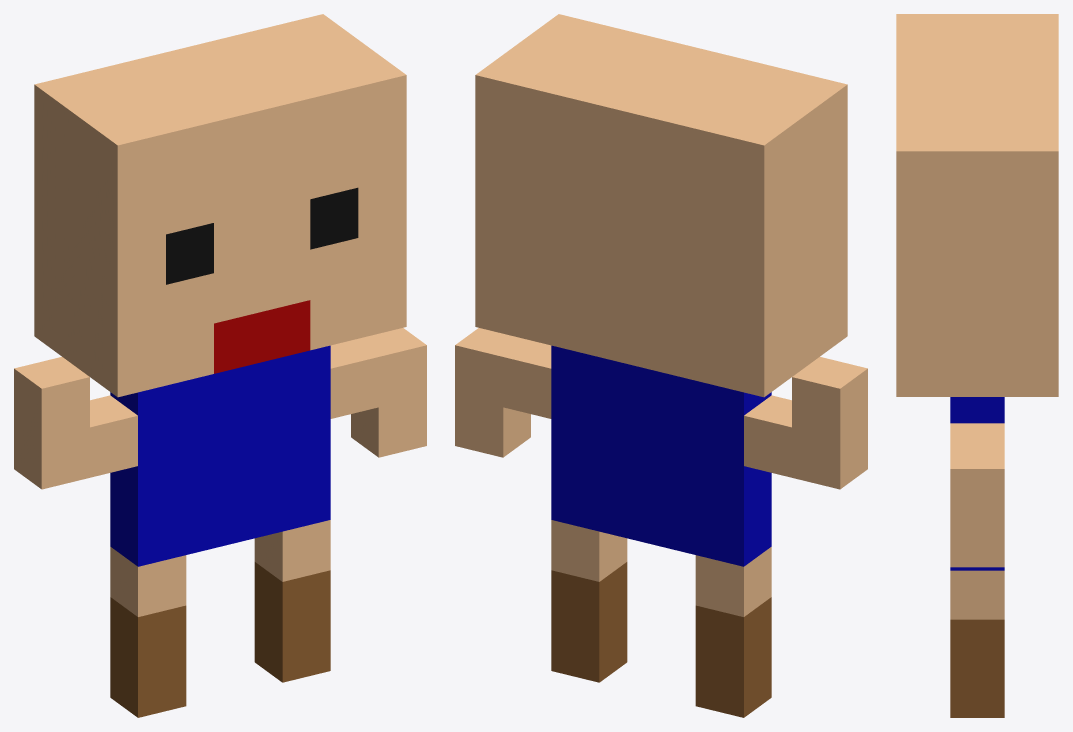
File: Enemy.obj
3 renders of one model, left to right at view 1: azimuth 30°, elevation 25°; view 2: azimuth 150°, elevation 25°; view 3: azimuth 270°, elevation 25°, orthographic. The views are drawn at different scales.
Bounding box in the file's own units: 0.8 × 1.2 × 0.3.
Materials: 1 (1 with a texture image).
